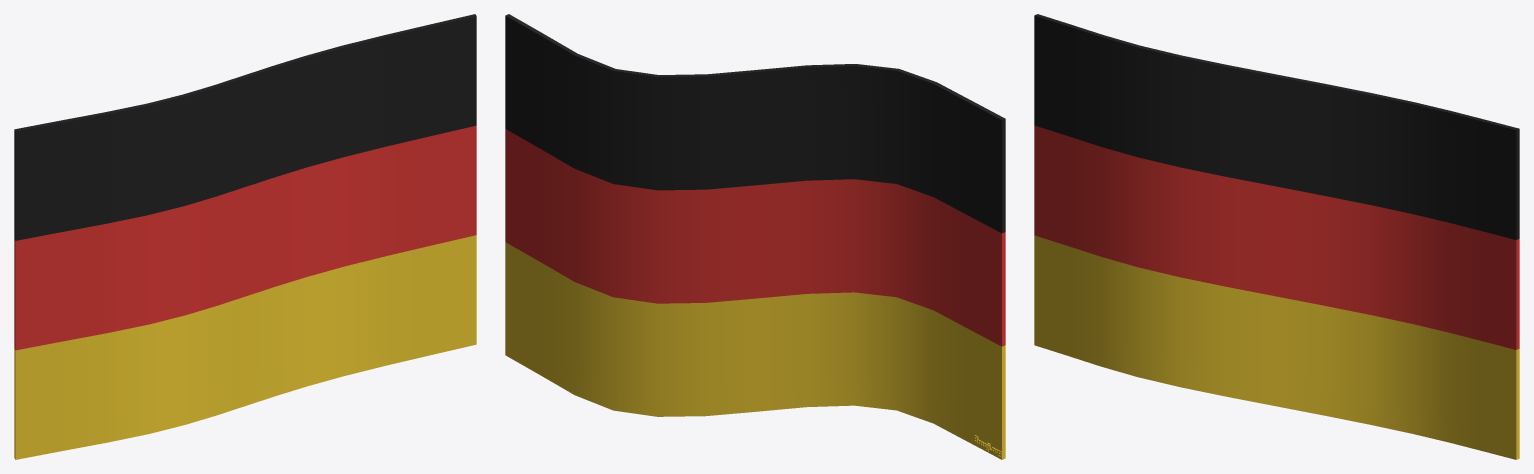
File: flag_germany.glb
3 views of the same model, side by side, from view 1: azimuth 30°, elevation 25°; view 2: azimuth 150°, elevation 25°; view 3: azimuth 330°, elevation 25° (orthographic). The views are drawn at different scales.
Visible parts, largest first — view 1: Plane.428; view 2: Plane.428; view 3: Plane.428.
Boxes of the visible parts, bbox=[...] form: Plane.428: bbox=[14, 14, 476, 459]; Plane.428: bbox=[505, 14, 1005, 459]; Plane.428: bbox=[1034, 14, 1519, 459].
Size of the model in its own units: 2.18 by 1.58 by 0.3373.
1 material, 1 textured.
